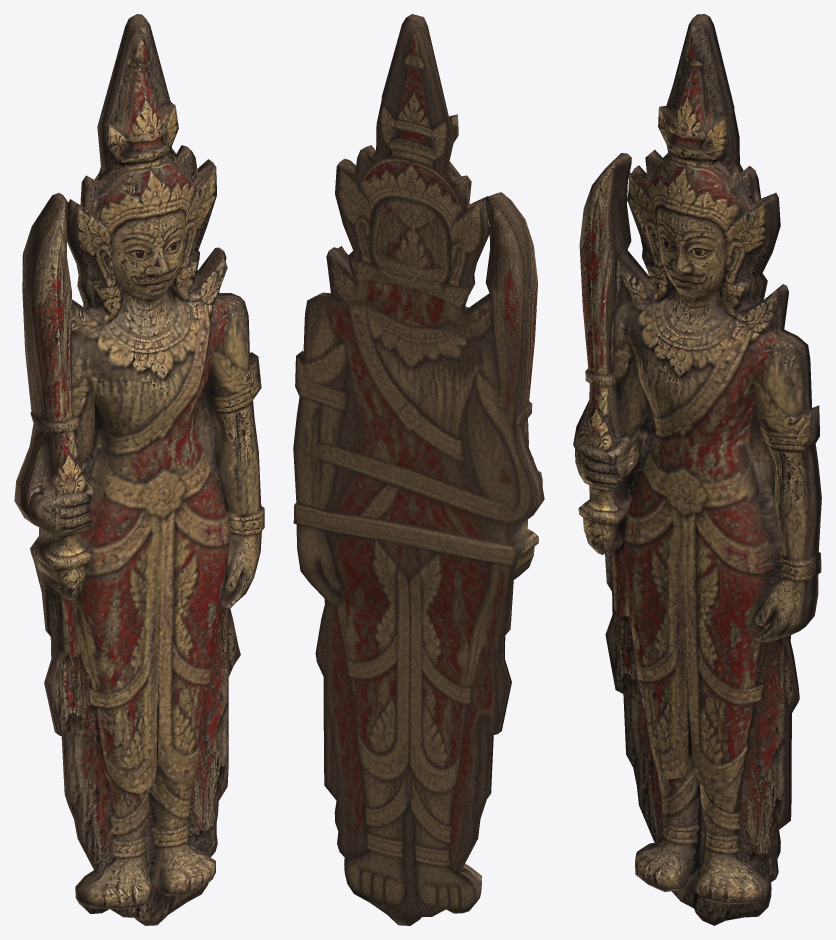
Rendered from Meshy_AI_Gilded_Guardian_Statue_20261028_texture.fbx.
3 views of the same model, side by side, from view 1: azimuth 30°, elevation 25°; view 2: azimuth 150°, elevation 25°; view 3: azimuth 330°, elevation 25° (orthographic).
Parts seen in each view (by area): view 1: Mesh_0; view 2: Mesh_0; view 3: Mesh_0.
Part boxes in pixels (x1,y1,x2,y2): Mesh_0: [14, 14, 264, 925]; Mesh_0: [293, 14, 544, 925]; Mesh_0: [573, 14, 821, 925].
Bounding box in the file's own units: 26.42 × 95.26 × 5.22.
Materials: 1 (1 with a texture image).
